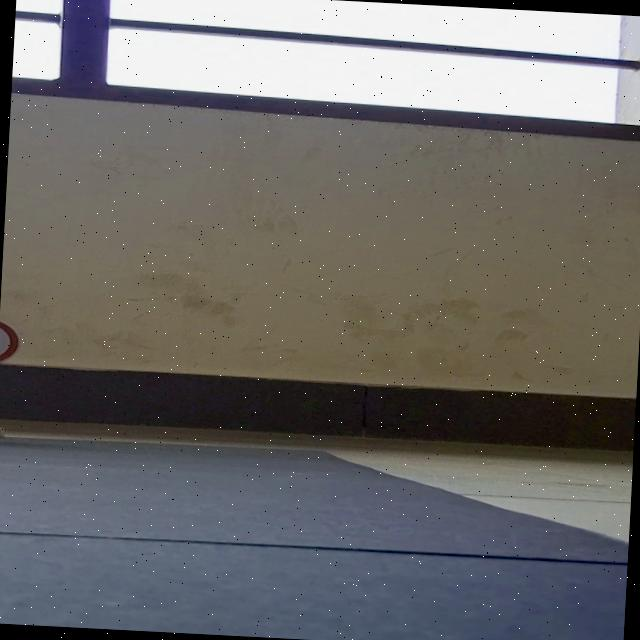Speed60: (0, 317, 29, 369)
